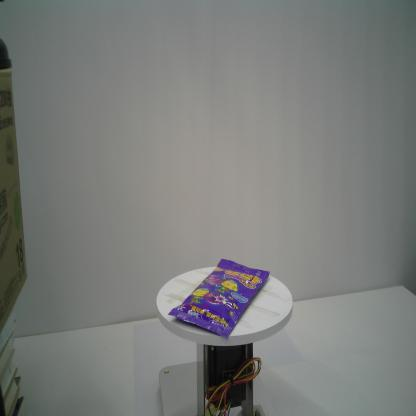Candy: (168, 257, 270, 339)
